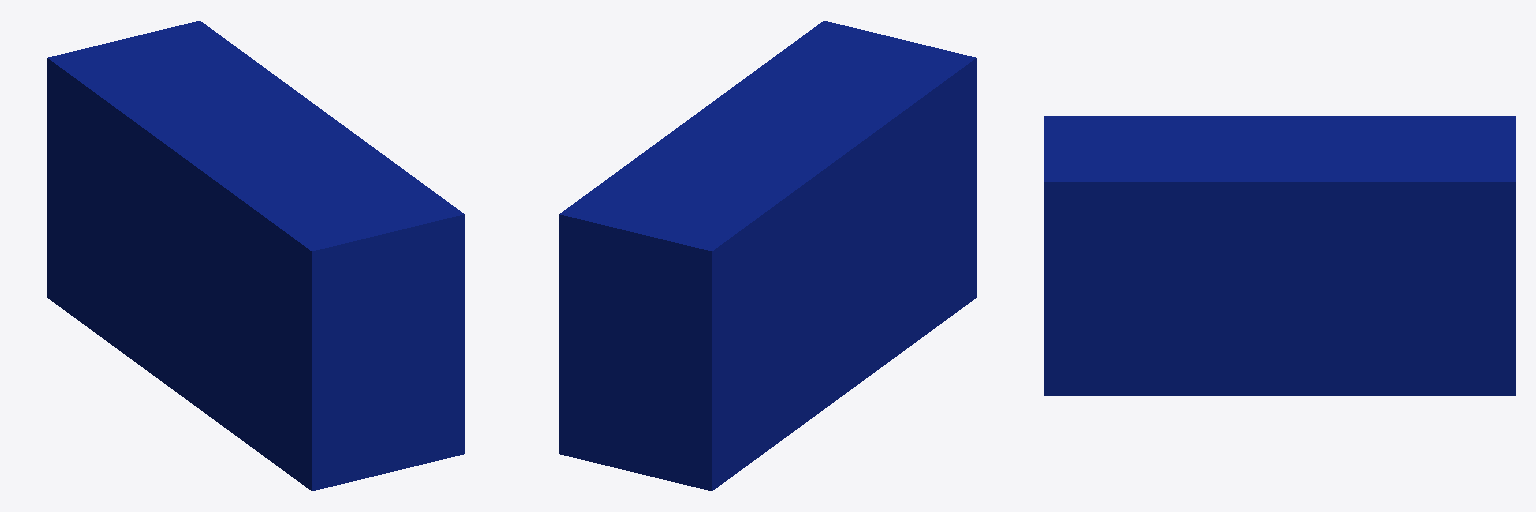
robot.urdf — block:
<robot name="block">
  <link name="block_base_link">
    <contact>
      <lateral_friction value="0.2"/>
      <rolling_friction value="0.001"/>
      <contact_cfm value="0.0"/>
      <contact_erp value="1.0"/>
    </contact>
    <inertial>
      <origin rpy="0 0 0" xyz="0.07 -0.01 0.015"/>
      <mass value="0.05"/>
      <inertia ixx="0" ixy="0" ixz="0" iyy="0" iyz="0" izz="0"/>
    </inertial>
    <collision>
      
      <geometry>
        <mesh filename="14.STL" scale="1 1 1"/>
      </geometry>
    </collision>
    <visual>
 
      <geometry>
        <mesh filename="14.STL" scale="1 1 1"/>
      </geometry>
      <material name="tray_material">
        <color rgba="0.1 0.2 0.6 1"/>
      </material>
    </visual>
  </link>
</robot>

--- Facts derived from the render (not from the file) ---
3 views of the same robot in one strip: view 1: azimuth 30°, elevation 25°; view 2: azimuth 150°, elevation 25°; view 3: azimuth 270°, elevation 25° (orthographic).
Model block with 1 links and 0 joints (none), rooted at block_base_link, posed all joints at 0.
Links seen in each view (by area): view 1: block_base_link; view 2: block_base_link; view 3: block_base_link.
Link boxes in pixels (<box>): block_base_link: <box>47,21,464,490</box>; block_base_link: <box>559,21,976,490</box>; block_base_link: <box>1044,116,1515,395</box>.
Bounding box of the posed robot: 0.02 × 0.06 × 0.03 m (x, y, z).
1 mesh visuals loaded from 1 distinct referenced files (1 binary STL).